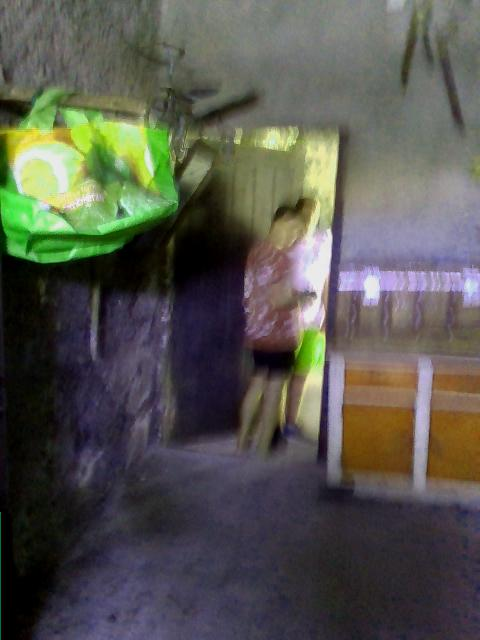semi_door: (167, 121, 344, 473)
